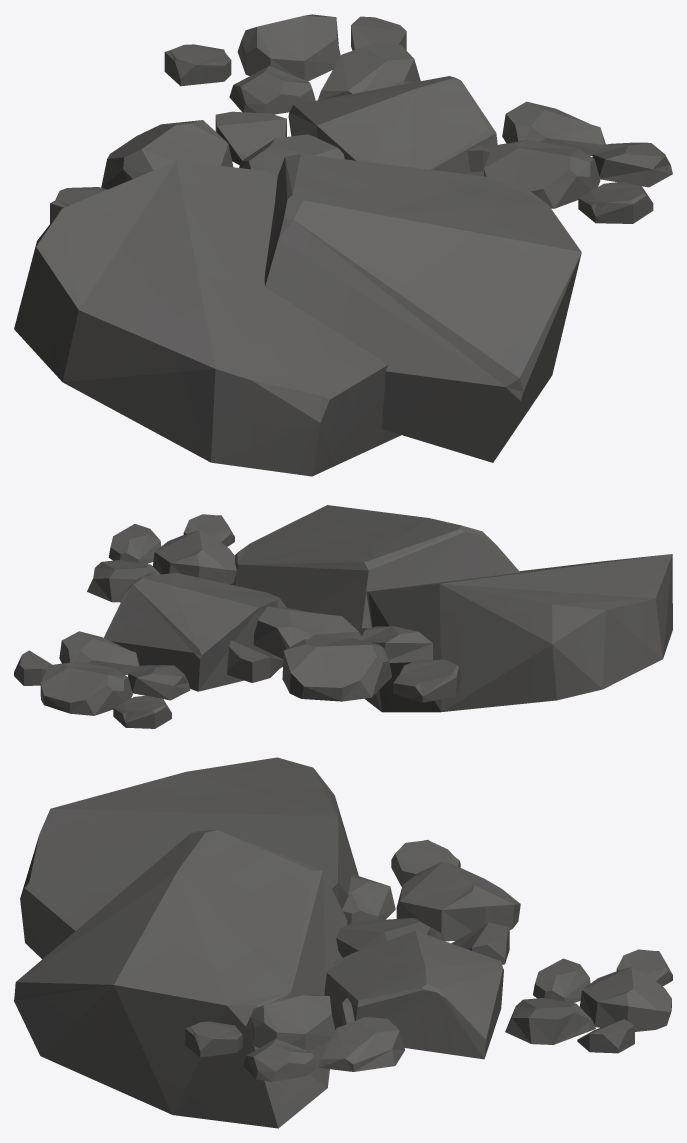
File: Rock_Debris_05.fbx
3 renders of one model, top to bottom at view 1: azimuth 30°, elevation 25°; view 2: azimuth 150°, elevation 25°; view 3: azimuth 270°, elevation 25°, orthographic. The views are drawn at different scales.
Parts seen in each view (by area): view 1: SM_Rock_Debris_05.mo; view 2: SM_Rock_Debris_05.mo; view 3: SM_Rock_Debris_05.mo.
Part boxes in pixels (x1,y1,x2,y2): SM_Rock_Debris_05.mo: (14,14,672,476); SM_Rock_Debris_05.mo: (14,505,672,728); SM_Rock_Debris_05.mo: (14,757,672,1128).
Bounding box in the file's own units: 224 × 72.39 × 228.
Materials: 1 (1 with a texture image).
